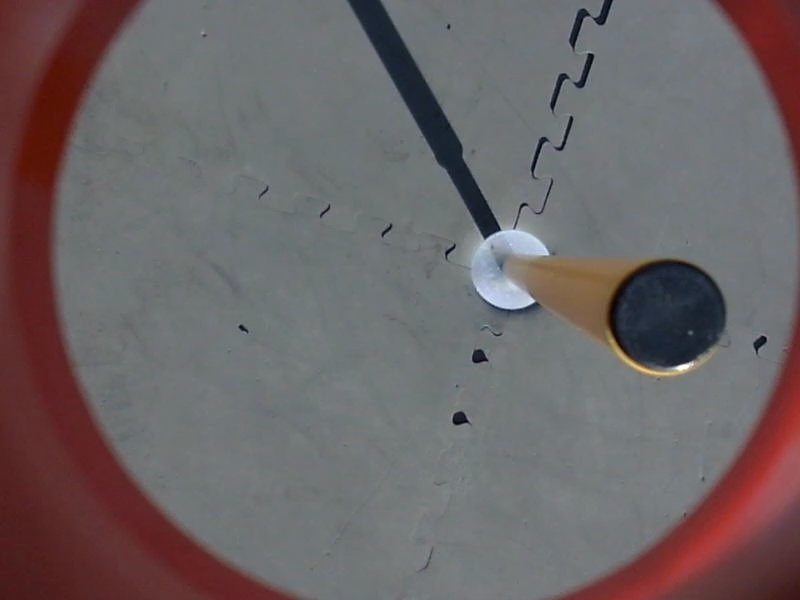tip: (599, 255, 730, 383)
